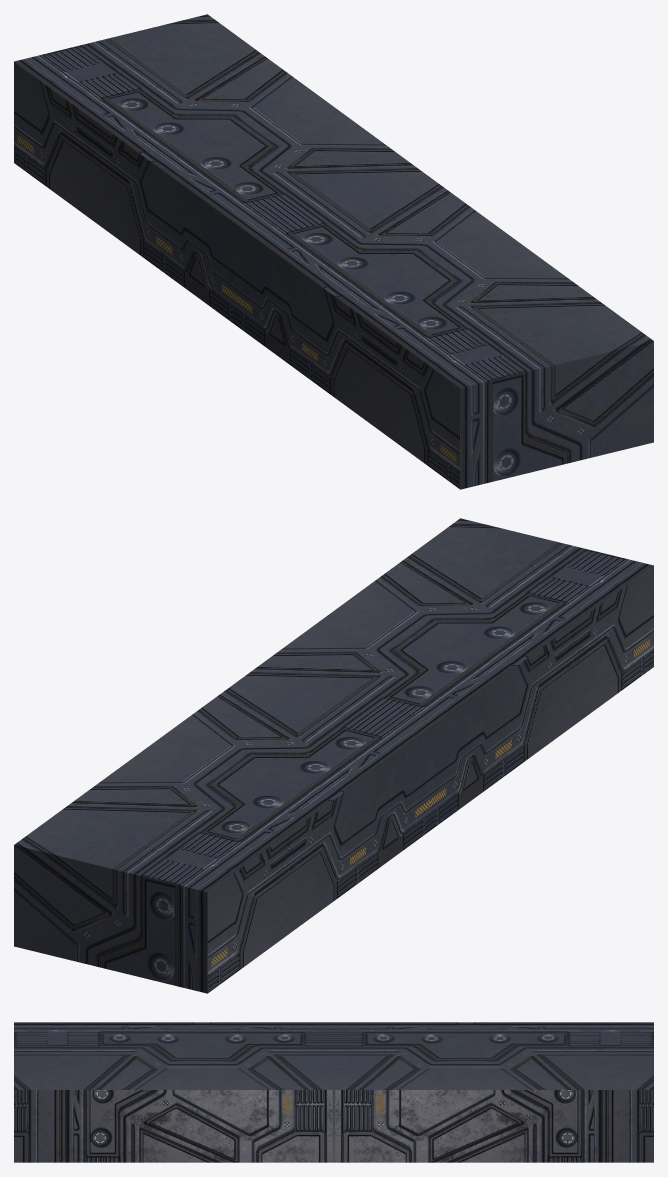
The model's file is Blocco piccolo.fbx.
3 renders of one model, top to bottom at view 1: azimuth 30°, elevation 25°; view 2: azimuth 150°, elevation 25°; view 3: azimuth 270°, elevation 25°, orthographic. The views are drawn at different scales.
Parts seen in each view (by area): view 1: Piattaforma piccola; view 2: Piattaforma piccola; view 3: Piattaforma piccola.
Part boxes in pixels (x1,y1,x2,y2): Piattaforma piccola: [14, 14, 653, 489]; Piattaforma piccola: [14, 518, 653, 993]; Piattaforma piccola: [14, 1022, 653, 1162].
Size of the model in its own units: 200 by 100 by 799.
